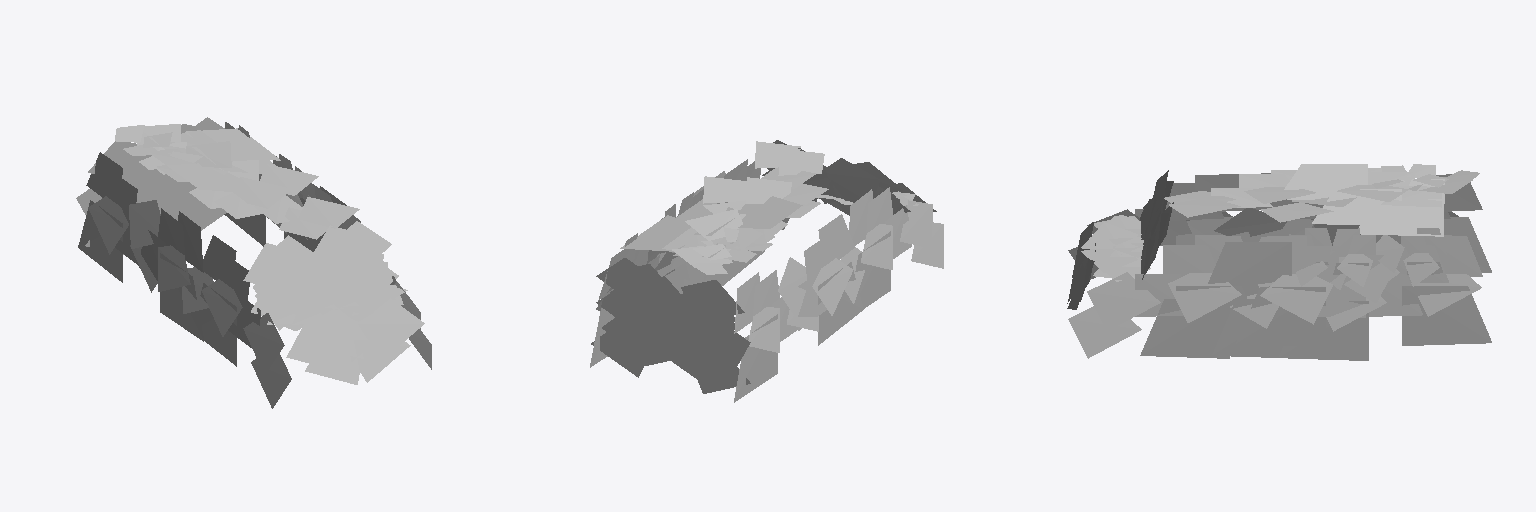
Rendered from Van_Dirt.obj.
3 renders of one model, left to right at view 1: azimuth 30°, elevation 25°; view 2: azimuth 150°, elevation 25°; view 3: azimuth 270°, elevation 25°, orthographic.
Parts seen in each view (by area): view 1: Van_Dirt; view 2: Van_Dirt; view 3: Van_Dirt.
Boxes of the visible parts, x1=… form: Van_Dirt: x1=76, y1=117, x2=431, y2=408; Van_Dirt: x1=590, y1=140, x2=943, y2=402; Van_Dirt: x1=1067, y1=164, x2=1491, y2=360.
Size of the model in its own units: 5.7 by 4.67 by 12.89.